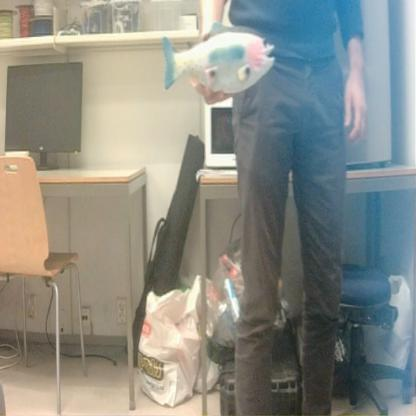rubberfish: (157, 19, 278, 96)
